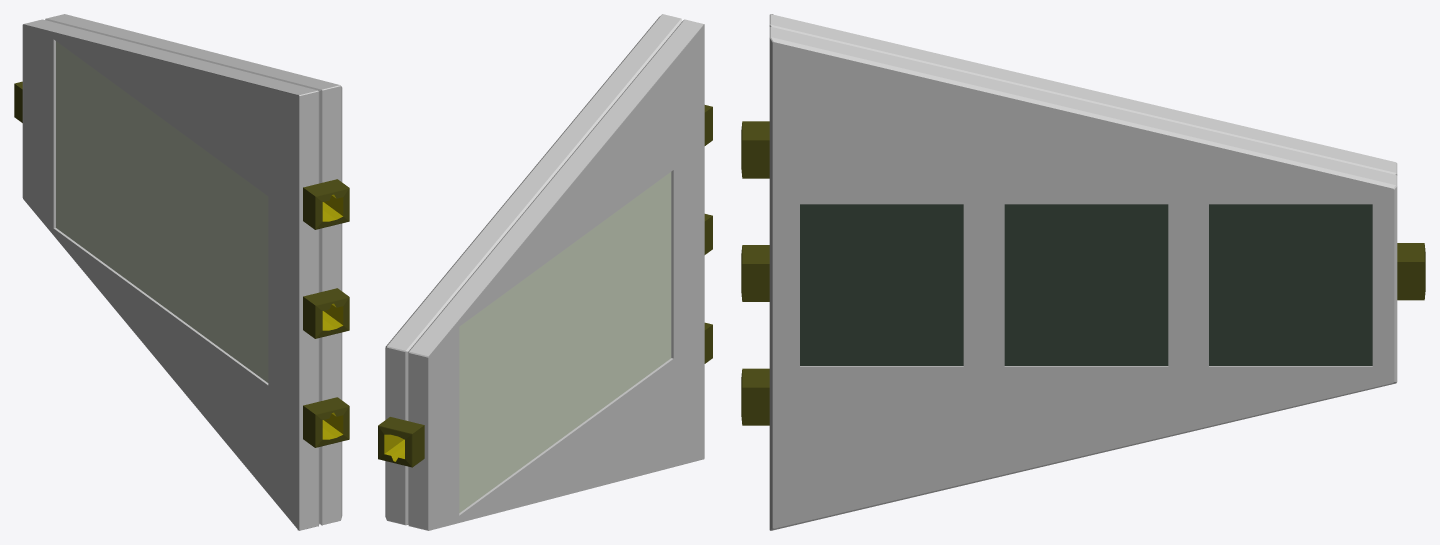
File: SM_SwitchComponent_Nto1.fbx
The picture shows the model from 3 angles, left to right: view 1: azimuth 30°, elevation 25°; view 2: azimuth 150°, elevation 25°; view 3: azimuth 270°, elevation 25°; orthographic projection. The views are drawn at different scales.
Visible parts, largest first — view 1: SwitchComponent; view 2: SwitchComponent; view 3: SwitchComponent.
Boxes of the visible parts, x1,y1,x2,y2 form: SwitchComponent: [14, 14, 349, 530]; SwitchComponent: [378, 14, 712, 530]; SwitchComponent: [741, 14, 1425, 530].
Bounding box in the file's own units: 2.12 × 19.99 × 25.1.
